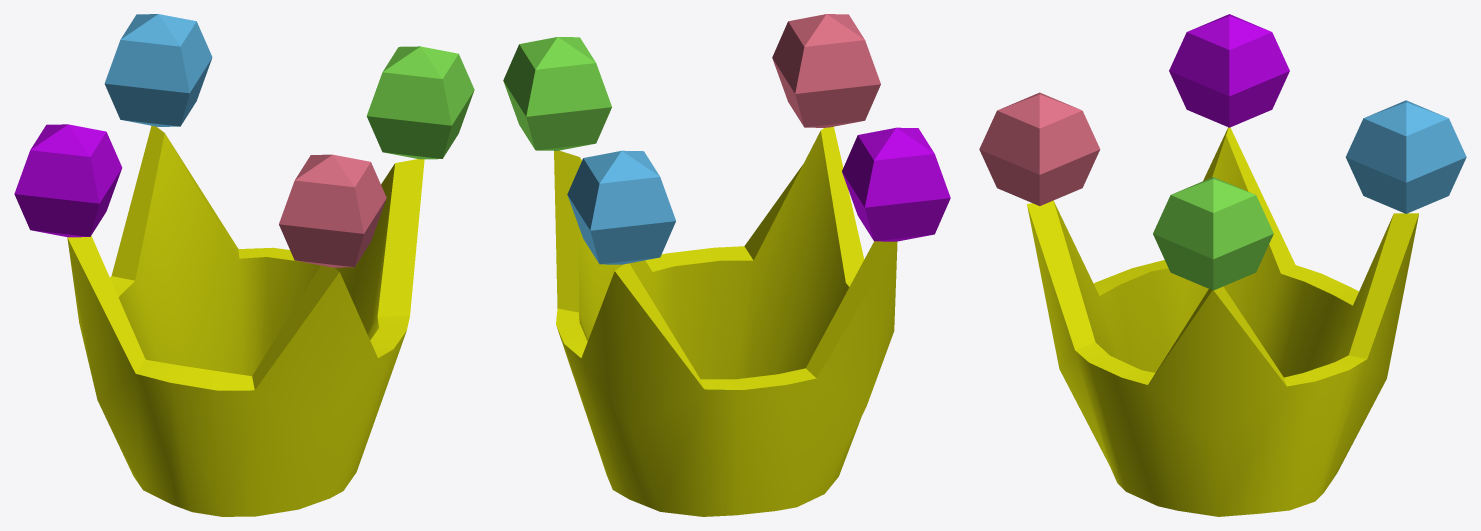
The model's file is crown 2.fbx.
The picture shows the model from 3 angles, left to right: view 1: azimuth 30°, elevation 25°; view 2: azimuth 150°, elevation 25°; view 3: azimuth 270°, elevation 25°; orthographic projection. The views are drawn at different scales.
Parts seen in each view (by area): view 1: polySurface10, polySurface15, polySurface20, polySurface19, polySurface17; view 2: polySurface10, polySurface17, polySurface20, polySurface15, polySurface19; view 3: polySurface10, polySurface19, polySurface15, polySurface20, polySurface17.
Boxes of the visible parts, x1,y1,x2,y2 form: polySurface10: [67, 125, 424, 516]; polySurface15: [366, 46, 474, 159]; polySurface20: [14, 124, 122, 237]; polySurface19: [279, 154, 386, 267]; polySurface17: [104, 14, 212, 126]; polySurface10: [554, 126, 897, 516]; polySurface17: [567, 150, 675, 264]; polySurface20: [842, 127, 950, 241]; polySurface15: [503, 37, 611, 150]; polySurface19: [772, 14, 880, 127]; polySurface10: [1027, 127, 1418, 516]; polySurface19: [979, 92, 1100, 205]; polySurface15: [1153, 177, 1273, 290]; polySurface20: [1169, 14, 1289, 127]; polySurface17: [1345, 100, 1466, 213].
Bounding box in the file's own units: 105 × 85.72 × 101.
